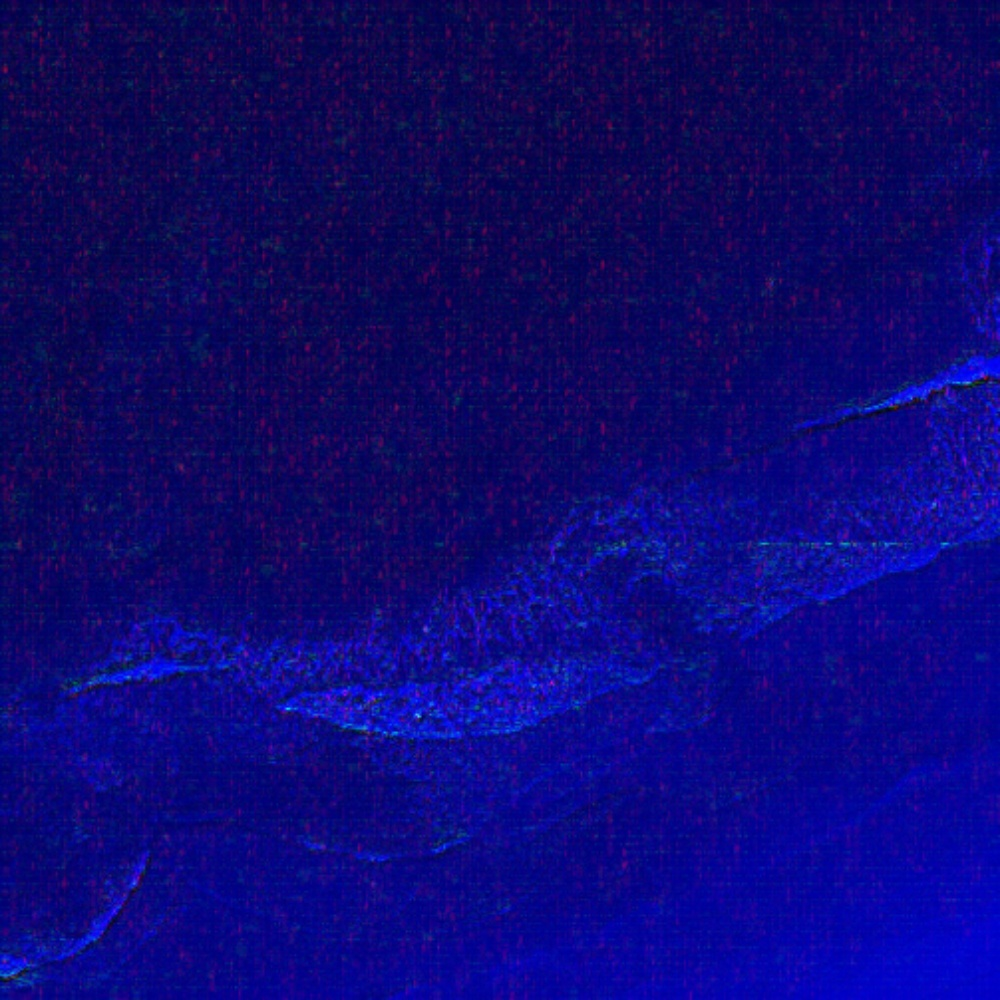rip_current: (532, 512, 765, 692)
